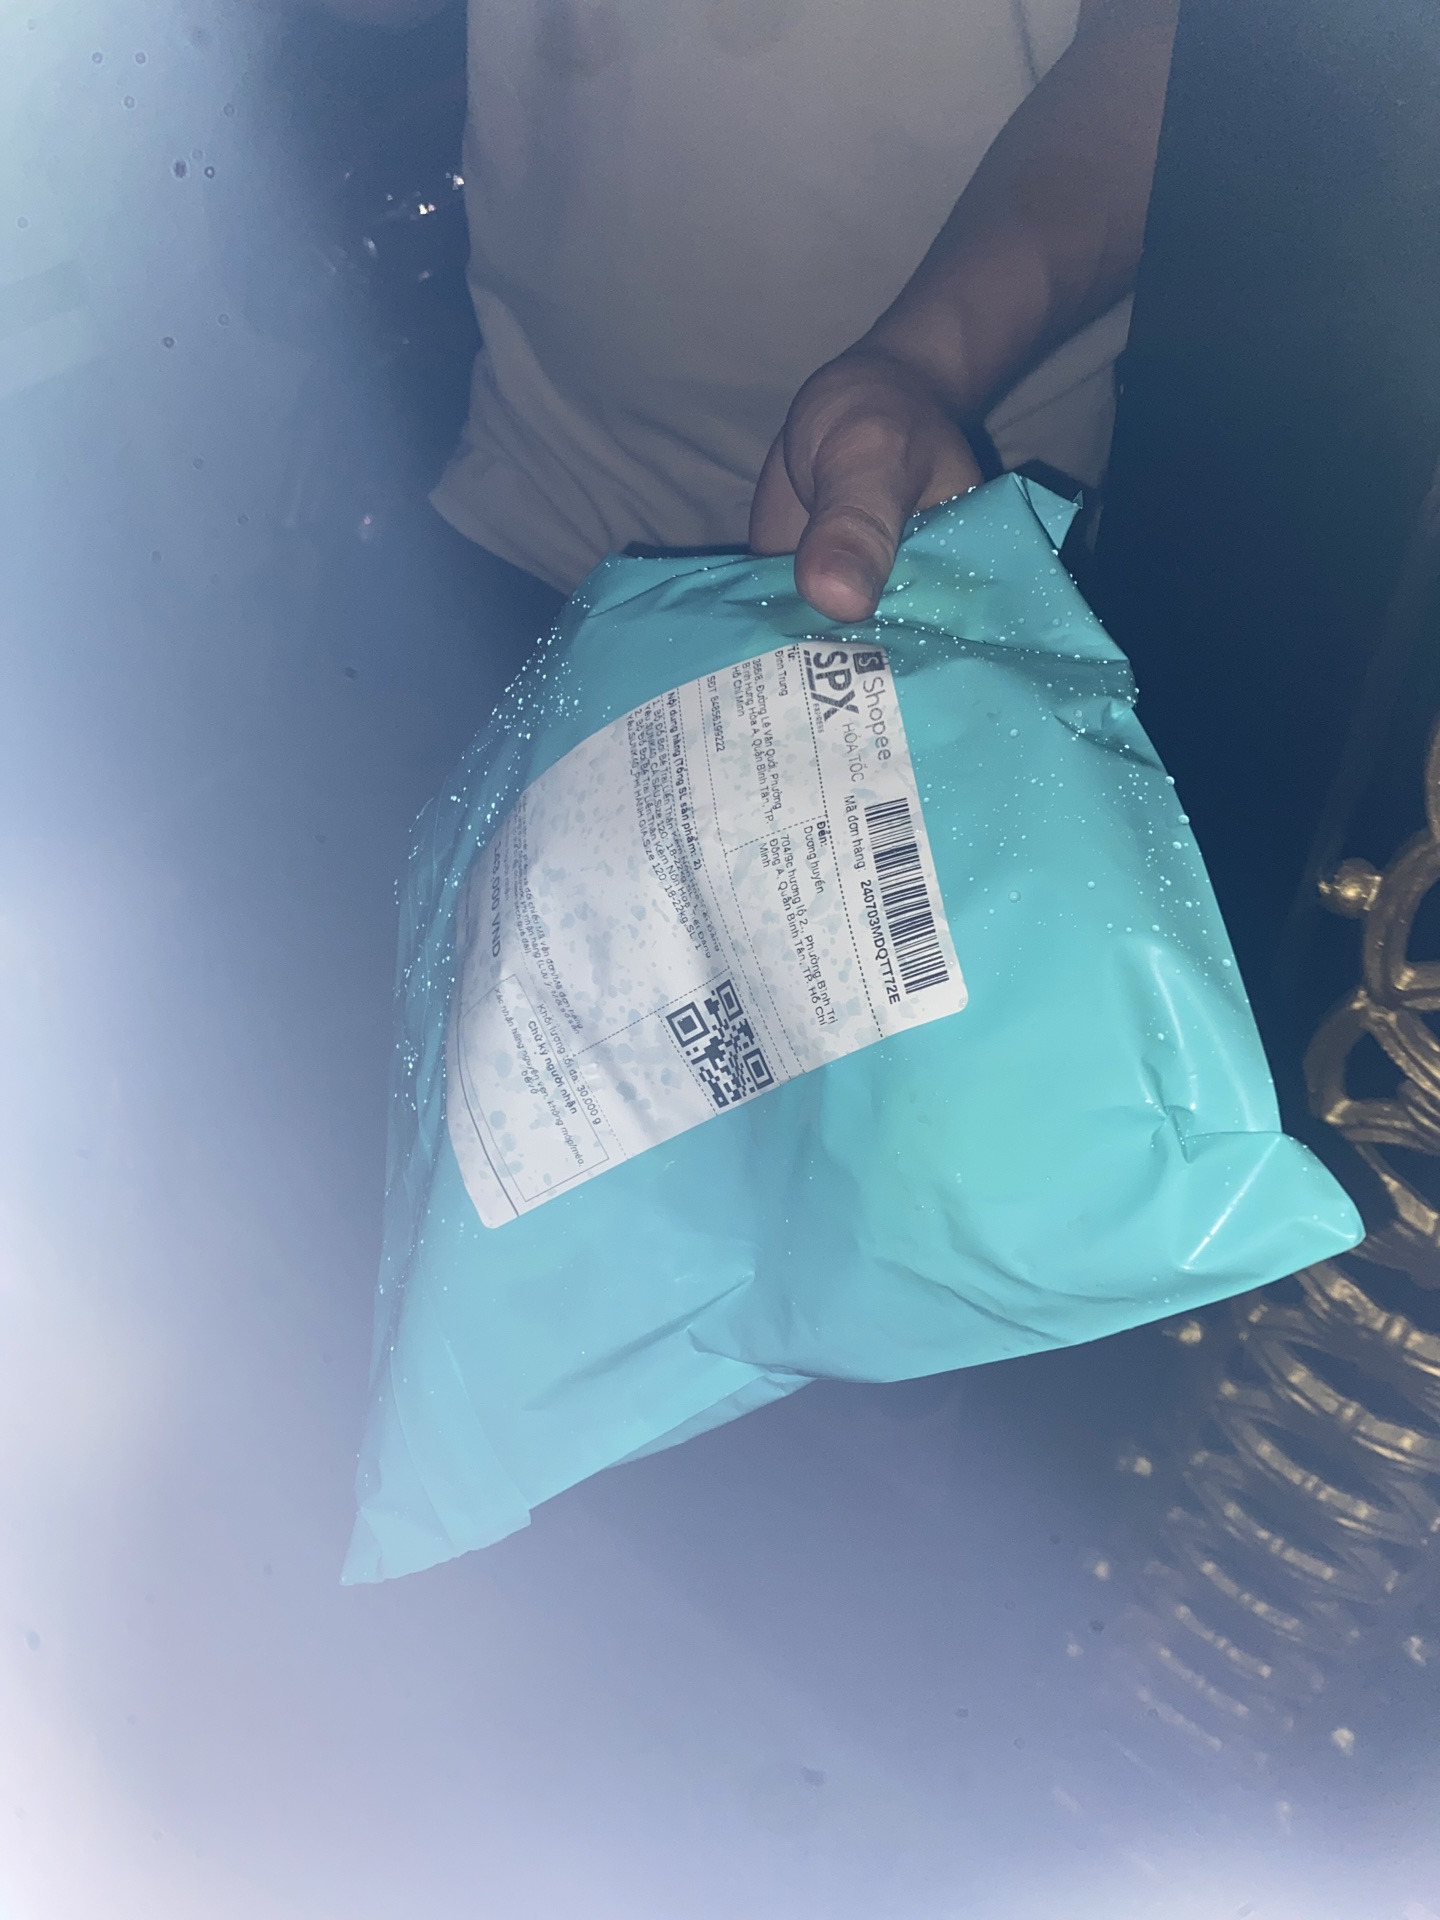pod: (411, 623, 1023, 1243)
